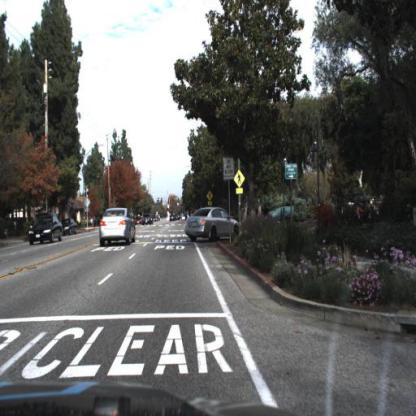car: (186, 205, 243, 244), (97, 207, 138, 248), (29, 213, 63, 247), (60, 214, 78, 237), (141, 210, 156, 230)
